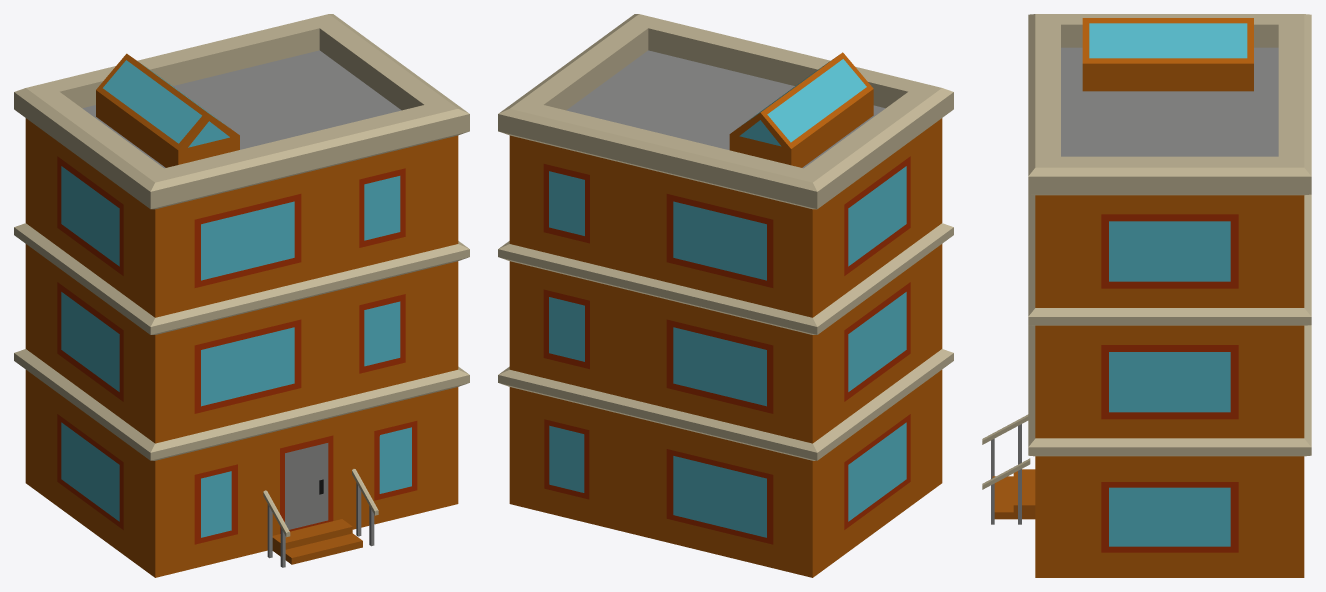
The model's file is House 4.2.fbx.
3 views of the same model, side by side, from view 1: azimuth 30°, elevation 25°; view 2: azimuth 150°, elevation 25°; view 3: azimuth 270°, elevation 25° (orthographic). The views are drawn at different scales.
Visible parts, largest first — view 1: House_02; view 2: House_02; view 3: House_02.
Boxes of the visible parts, bbox=[...] form: House_02: bbox=[14, 14, 469, 577]; House_02: bbox=[498, 14, 953, 577]; House_02: bbox=[982, 14, 1311, 577].
Size of the model in its own units: 354 by 454 by 304.
